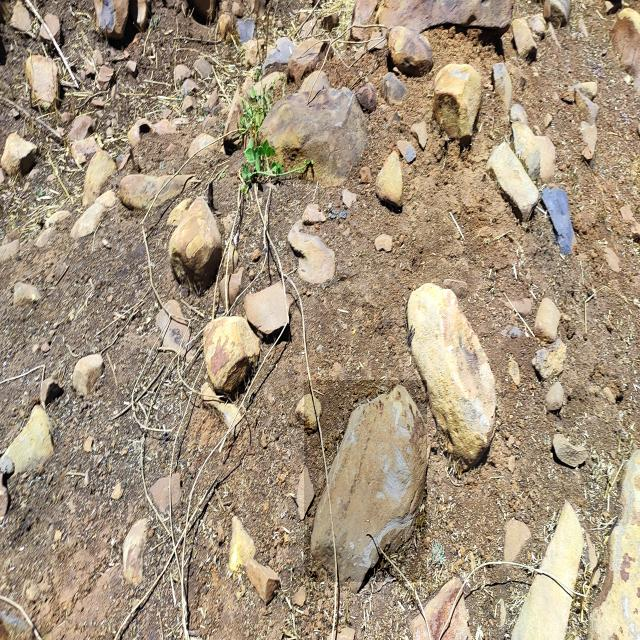rock: (304, 380, 427, 582), (404, 279, 501, 471), (254, 60, 368, 184), (433, 59, 484, 146)
